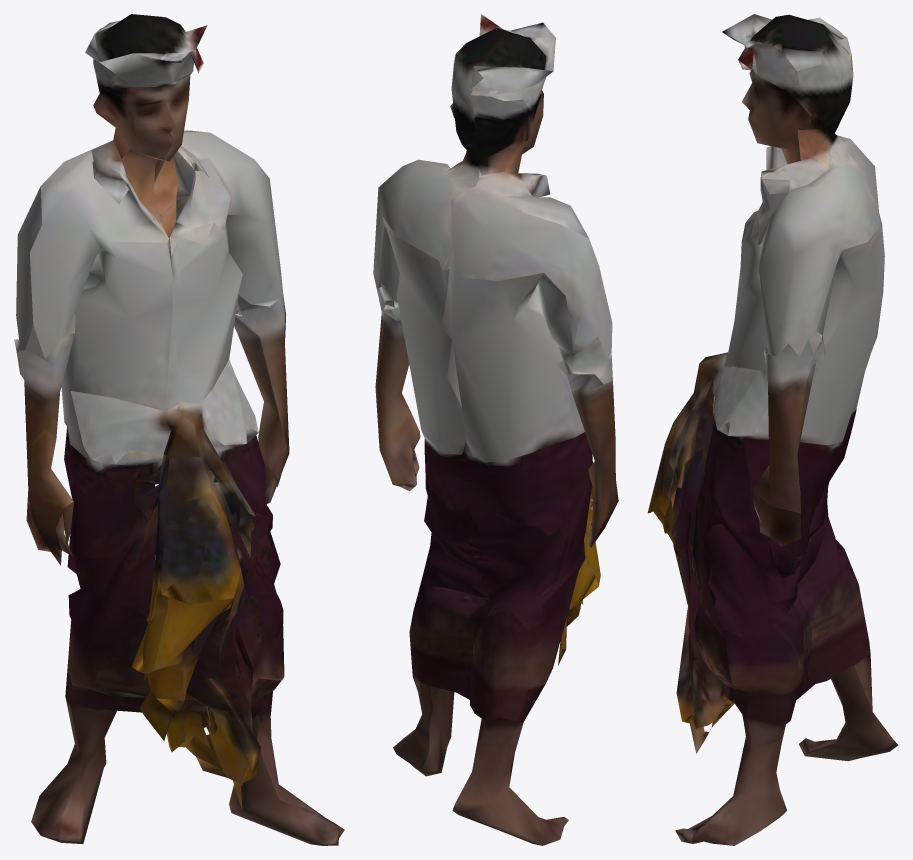
File: cowok_baju_bali_idle_lod2.glb
3 renders of one model, left to right at view 1: azimuth 30°, elevation 25°; view 2: azimuth 150°, elevation 25°; view 3: azimuth 270°, elevation 25°, orthographic. The views are drawn at different scales.
Visible parts, largest first — view 1: tripo_node_918b0ae5-4ae0-4051-b08e-c013eb1250b8; view 2: tripo_node_918b0ae5-4ae0-4051-b08e-c013eb1250b8; view 3: tripo_node_918b0ae5-4ae0-4051-b08e-c013eb1250b8.
Boxes of the visible parts, x1,y1,x2,y2 form: tripo_node_918b0ae5-4ae0-4051-b08e-c013eb1250b8: [14, 14, 344, 845]; tripo_node_918b0ae5-4ae0-4051-b08e-c013eb1250b8: [373, 14, 618, 845]; tripo_node_918b0ae5-4ae0-4051-b08e-c013eb1250b8: [647, 14, 898, 845].
Bounding box in the file's own units: 34.15 × 99.35 × 29.53.
Materials: 1 (1 with a texture image).
